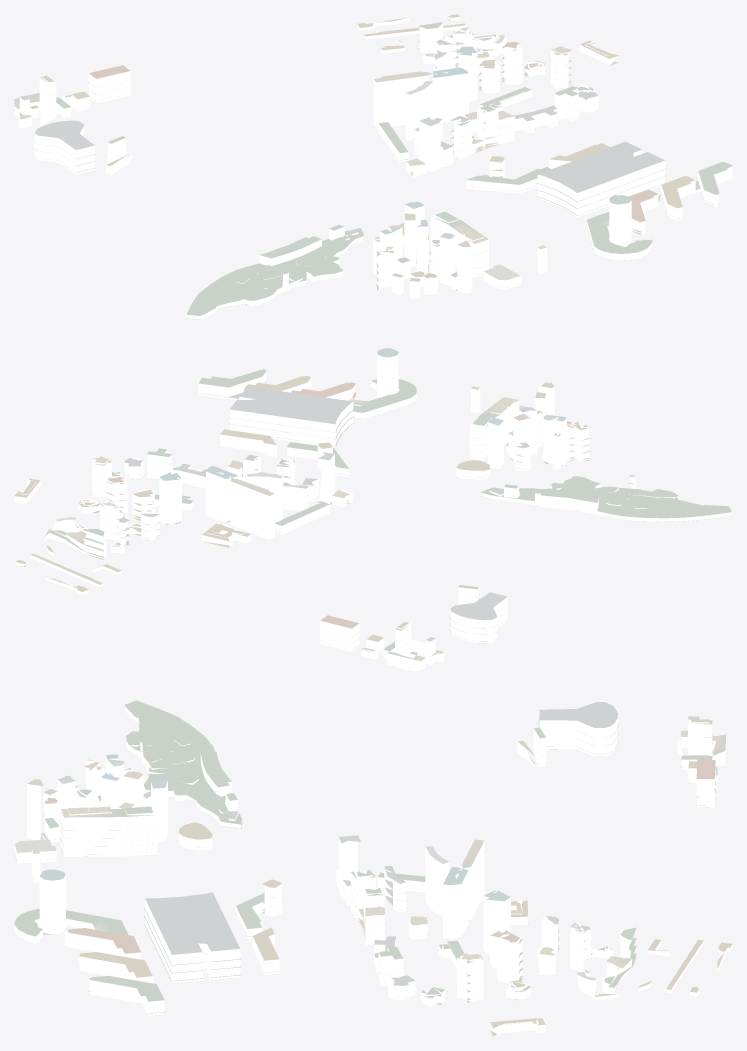
The model's file is buildings--4_-1-coarse.glb.
3 renders of one model, top to bottom at view 1: azimuth 30°, elevation 25°; view 2: azimuth 150°, elevation 25°; view 3: azimuth 270°, elevation 25°, orthographic. The views are drawn at different scales.
Visible parts, largest first — view 1: block_-4_-1_residential, block_-4_-1_roof, block_-4_-1_office; view 2: block_-4_-1_residential, block_-4_-1_roof, block_-4_-1_office; view 3: block_-4_-1_residential, block_-4_-1_roof, block_-4_-1_office.
Part boxes in pixels (left/top/right/bottom): block_-4_-1_residential: left=14, top=16, right=732, bottom=319; block_-4_-1_roof: left=14, top=14, right=732, bottom=319; block_-4_-1_office: left=259, top=48, right=631, bottom=293; block_-4_-1_residential: left=14, top=369, right=732, bottom=671; block_-4_-1_roof: left=14, top=348, right=732, bottom=669; block_-4_-1_office: left=159, top=349, right=598, bottom=539; block_-4_-1_residential: left=14, top=702, right=732, bottom=1035; block_-4_-1_roof: left=14, top=700, right=732, bottom=1036; block_-4_-1_office: left=27, top=755, right=510, bottom=953.
Bounding box in the file's own units: 720 × 59.21 × 656.
